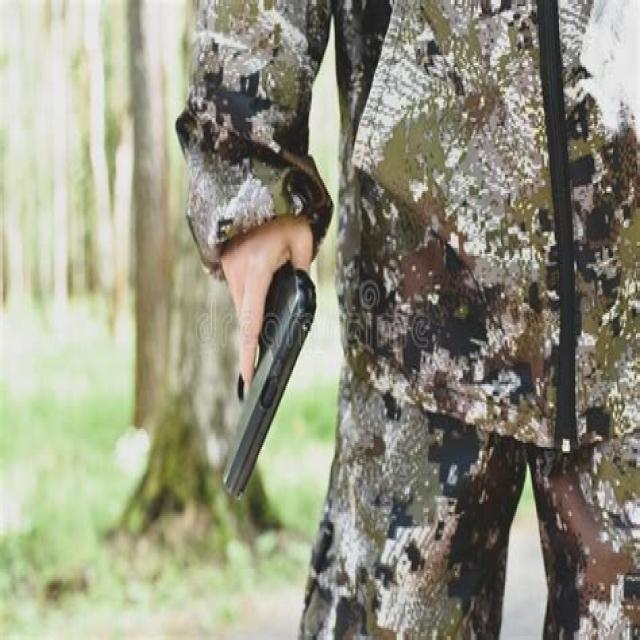weapons: (192, 254, 348, 510)
